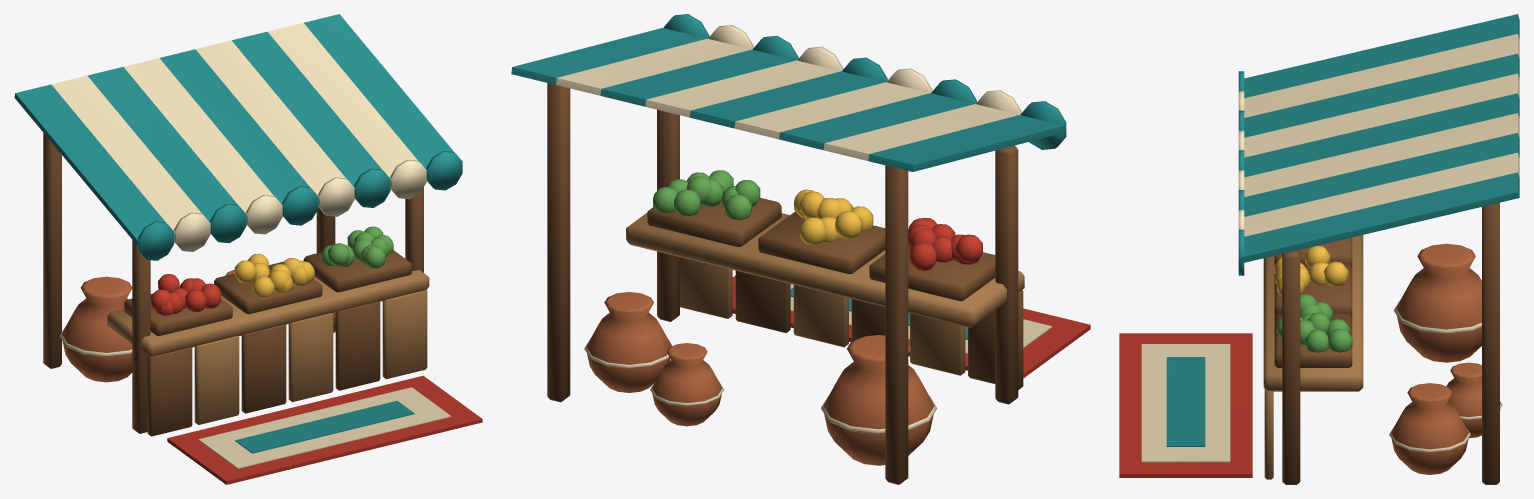
File: desert_stall.glb
The picture shows the model from 3 angles, left to right: view 1: azimuth 30°, elevation 25°; view 2: azimuth 150°, elevation 25°; view 3: azimuth 270°, elevation 25°; orthographic projection. The views are drawn at different scales.
Visible parts, largest first — view 1: D_Stall__D_teal, D_Stall__D_cream, D_Stall__D_wood, D_Stall__D_woodl, D_Stall__D_red, D_Stall__D_clay, D_Stall__D_gold, D_Stall__D_greenl; view 2: D_Stall__D_wood, D_Stall__D_teal, D_Stall__D_cream, D_Stall__D_woodl, D_Stall__D_clay, D_Stall__D_red, D_Stall__D_greenl, D_Stall__D_gold; view 3: D_Stall__D_teal, D_Stall__D_cream, D_Stall__D_clay, D_Stall__D_wood, D_Stall__D_red, D_Stall__D_woodl, D_Stall__D_greenl, D_Stall__D_gold.
Boxes of the visible parts, bbox=[...] form: D_Stall__D_teal: bbox=[14, 14, 462, 453]; D_Stall__D_cream: bbox=[51, 23, 451, 468]; D_Stall__D_wood: bbox=[43, 133, 423, 436]; D_Stall__D_woodl: bbox=[107, 270, 429, 424]; D_Stall__D_red: bbox=[151, 274, 482, 484]; D_Stall__D_clay: bbox=[62, 253, 335, 382]; D_Stall__D_gold: bbox=[234, 253, 314, 297]; D_Stall__D_greenl: bbox=[321, 226, 393, 268]; D_Stall__D_wood: bbox=[547, 83, 1023, 484]; D_Stall__D_teal: bbox=[511, 14, 1066, 339]; D_Stall__D_cream: bbox=[556, 25, 1051, 434]; D_Stall__D_woodl: bbox=[626, 213, 1024, 375]; D_Stall__D_clay: bbox=[586, 292, 934, 465]; D_Stall__D_red: bbox=[732, 218, 1090, 378]; D_Stall__D_greenl: bbox=[653, 170, 760, 219]; D_Stall__D_gold: bbox=[794, 189, 873, 245]; D_Stall__D_teal: bbox=[1166, 14, 1519, 446]; D_Stall__D_cream: bbox=[1141, 34, 1519, 462]; D_Stall__D_clay: bbox=[1391, 243, 1500, 474]; D_Stall__D_wood: bbox=[1274, 202, 1499, 484]; D_Stall__D_red: bbox=[1119, 333, 1252, 477]; D_Stall__D_woodl: bbox=[1263, 235, 1363, 479]; D_Stall__D_greenl: bbox=[1276, 294, 1352, 352]; D_Stall__D_gold: bbox=[1274, 245, 1348, 296].
Bounding box in the file's own units: 3.8 × 3.03 × 3.61.
